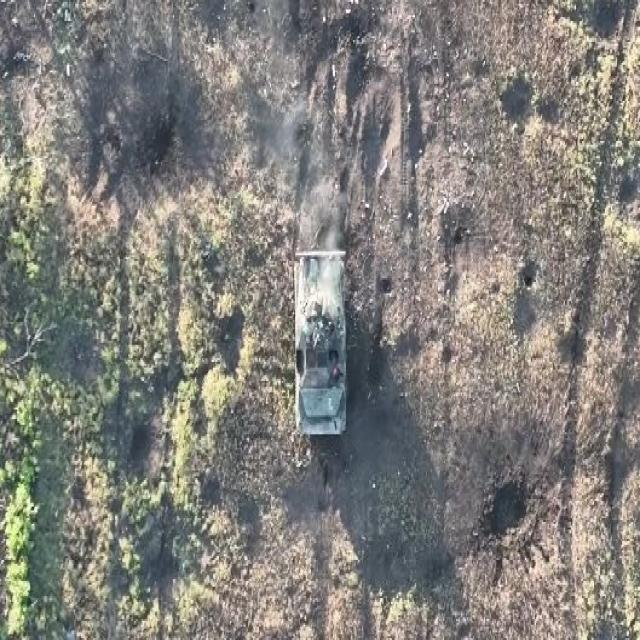AIFV: (296, 249, 349, 443)
